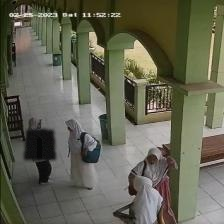Cadar_Niqab: (24, 115, 55, 159)
